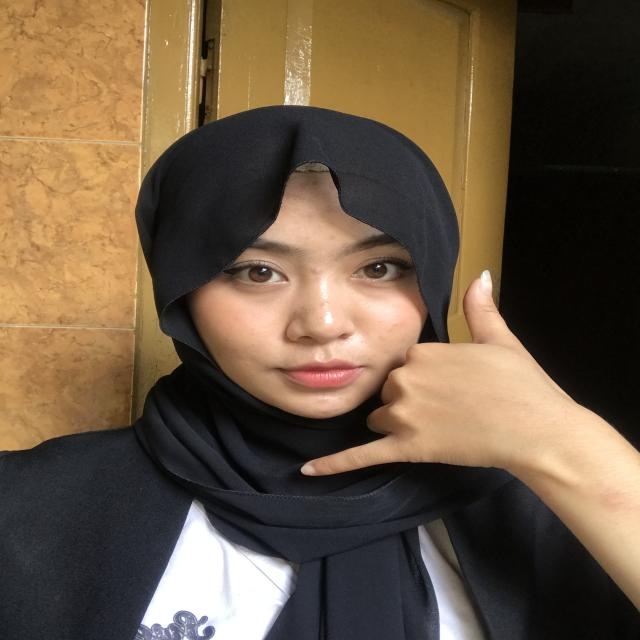telpon: (306, 265, 577, 506)
